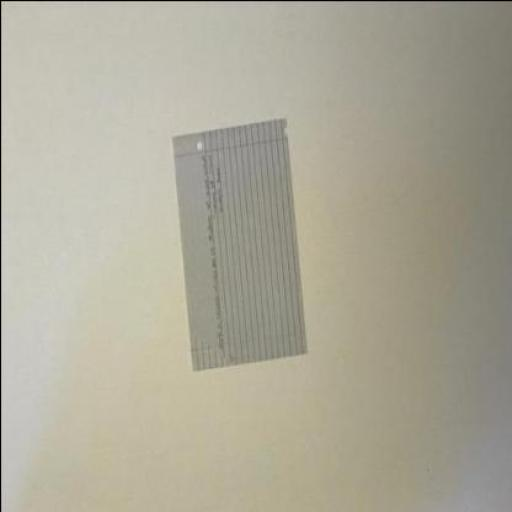paper: (168, 119, 307, 372)
